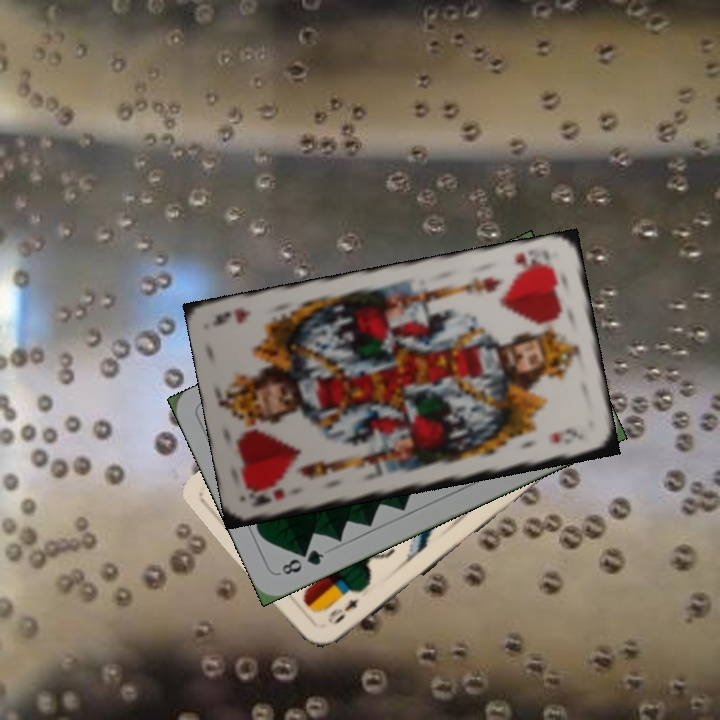EO: (323, 595, 361, 628)
G8: (277, 545, 327, 578)
HK: (509, 248, 555, 276), (247, 484, 287, 510)
